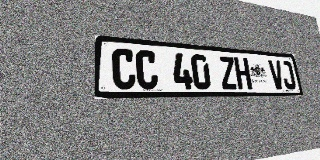0: (190, 54, 211, 89)
4: (172, 52, 193, 89)
C: (112, 48, 136, 89), (135, 50, 158, 89)
H: (234, 57, 252, 89)
J: (280, 61, 297, 89)
V: (268, 60, 285, 89)
Z: (218, 56, 238, 89)
